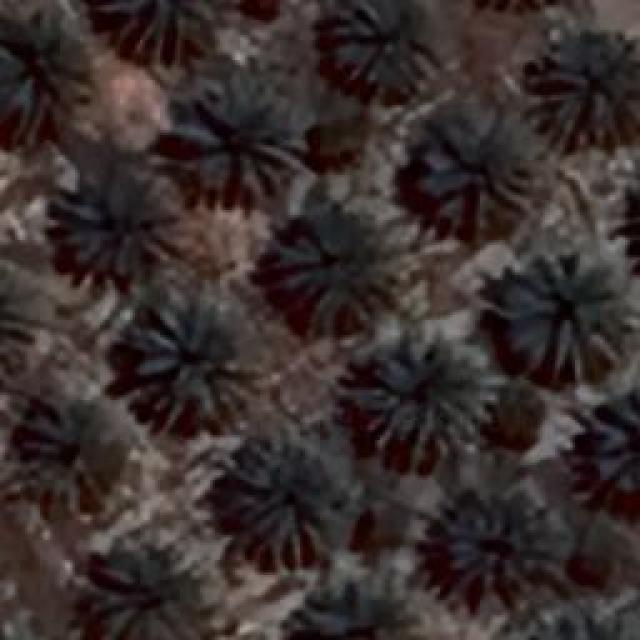PalmTree: (494, 250, 638, 380), (360, 330, 500, 460), (170, 72, 300, 206), (270, 212, 408, 330), (130, 300, 260, 425), (412, 110, 538, 230), (55, 165, 190, 273), (230, 432, 335, 566), (528, 20, 638, 145), (442, 492, 570, 592), (14, 397, 128, 505), (320, 0, 438, 95), (85, 544, 200, 638), (0, 9, 92, 122), (100, 0, 225, 62), (292, 580, 406, 638), (0, 261, 58, 369), (487, 601, 633, 640), (592, 382, 638, 488), (465, 0, 570, 19)
